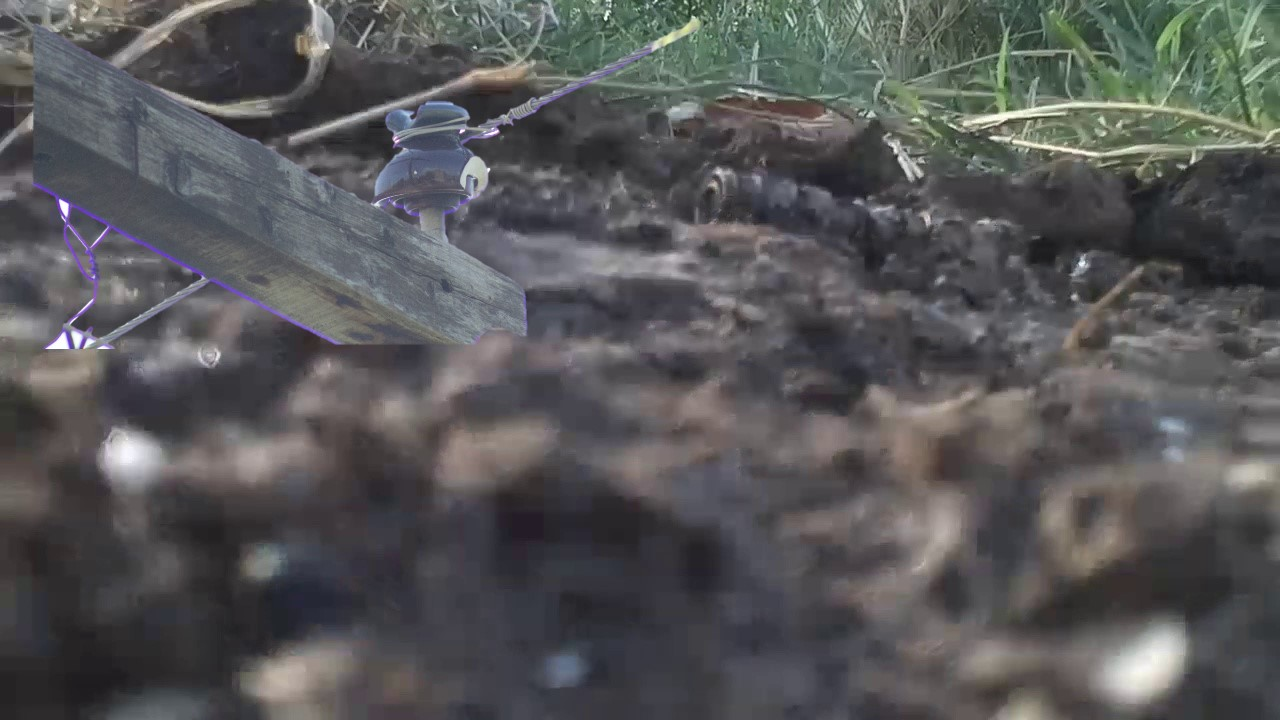defect_pin: (369, 100, 495, 214)
